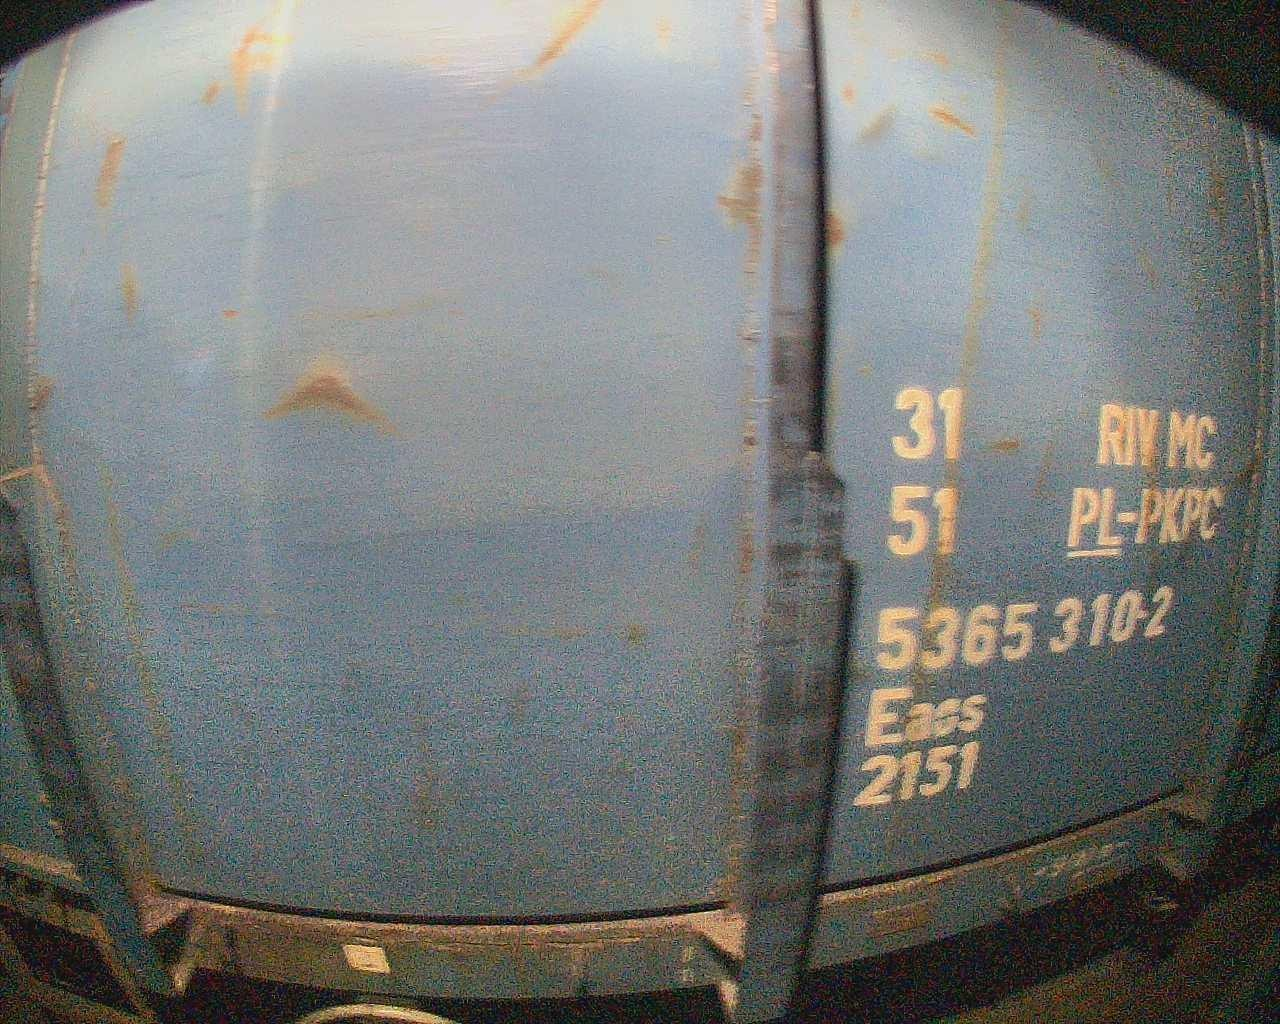UIC: (850, 383, 1227, 812)
